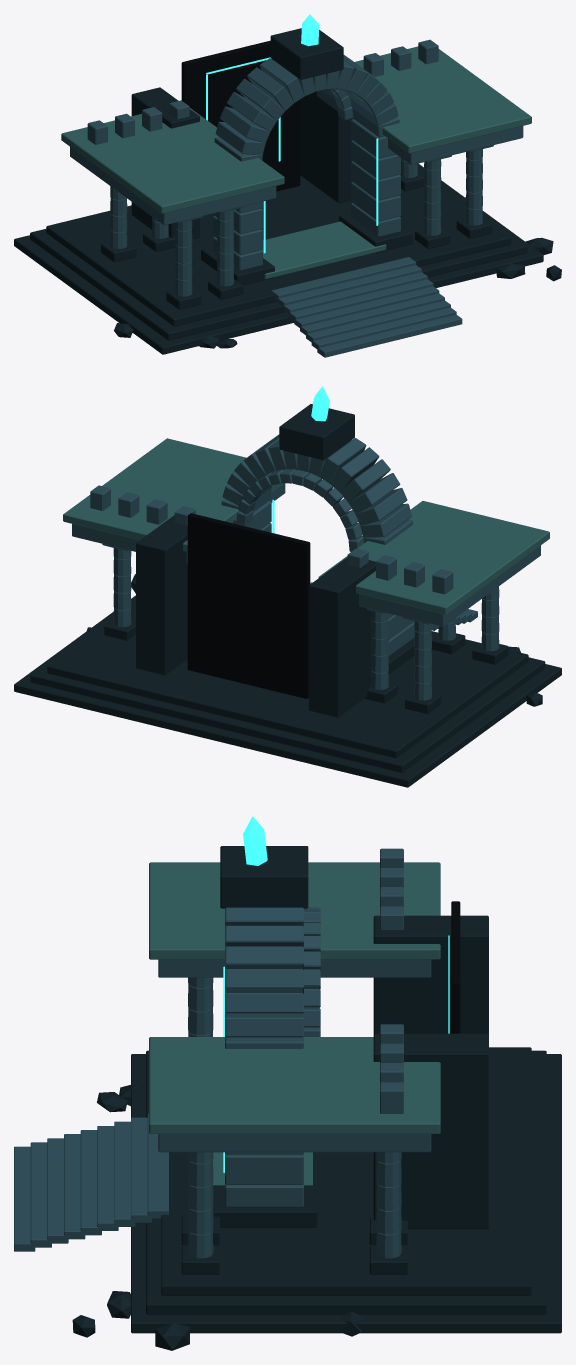
File: distant_temple.glb
The picture shows the model from 3 angles, top to bottom: view 1: azimuth 30°, elevation 25°; view 2: azimuth 150°, elevation 25°; view 3: azimuth 270°, elevation 25°; orthographic projection. The views are drawn at different scales.
Visible parts, largest first — view 1: distant_temple; view 2: distant_temple; view 3: distant_temple.
Boxes of the visible parts, <box> form: distant_temple: <box>14,14,561,357</box>; distant_temple: <box>14,386,561,787</box>; distant_temple: <box>14,816,561,1350</box>.
Size of the model in its own units: 230 by 143 by 180.
Materials: 5 (5 with a texture image).
